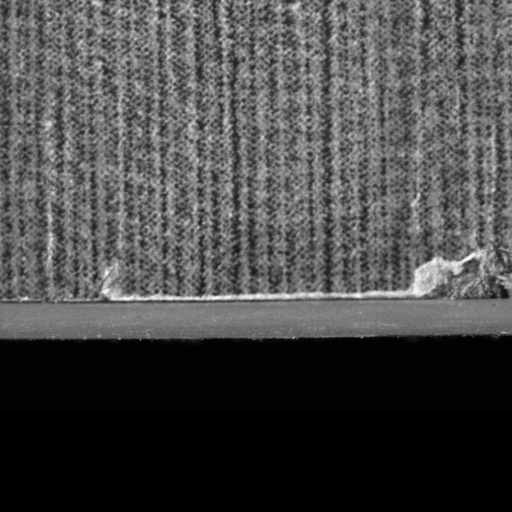bengque: (427, 255, 511, 304)
